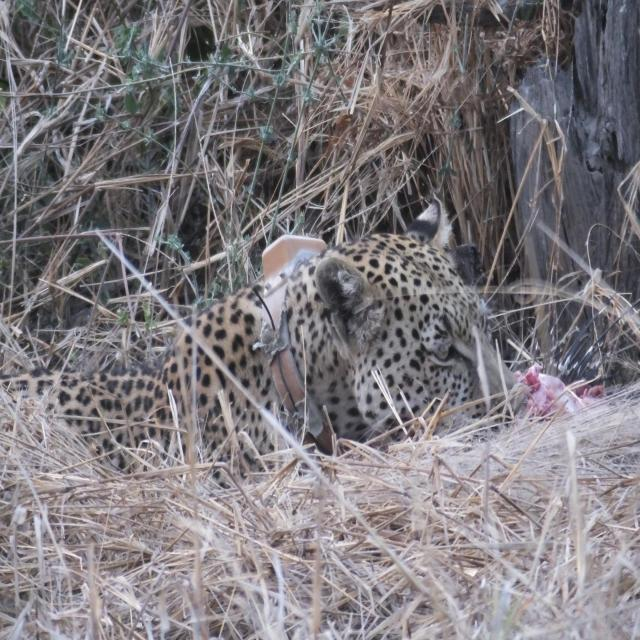Leopard: (2, 218, 520, 533)
